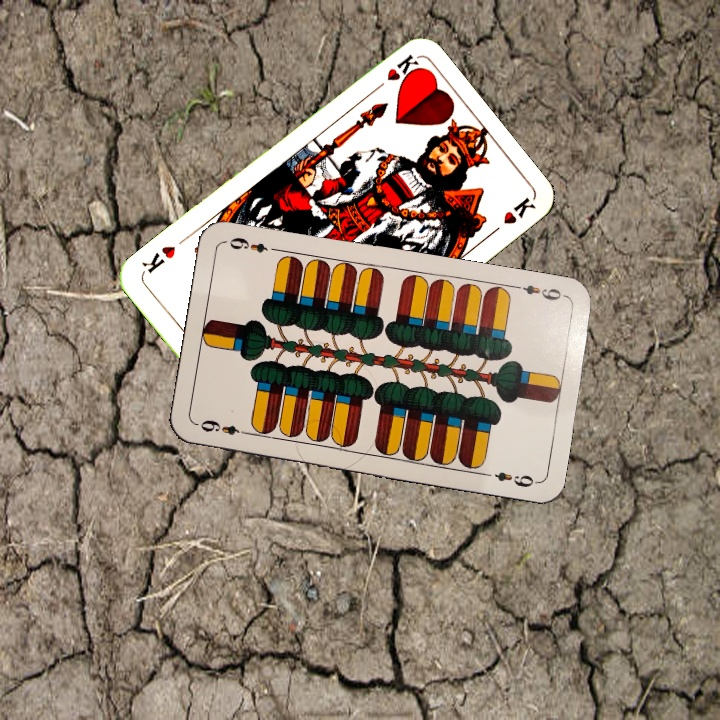E9: (193, 415, 252, 438), (510, 280, 569, 303)
HK: (367, 50, 421, 96)
